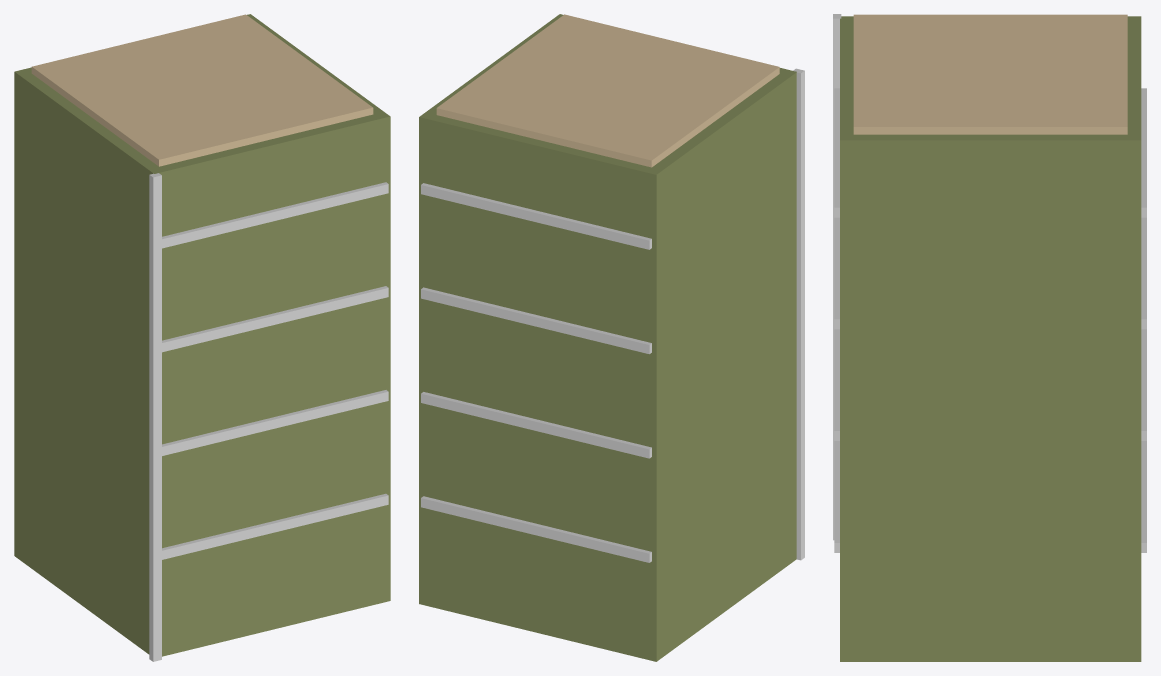
The model's file is SM_HescoCorto1_v2_Escalonado_e0_Sano_LOD0.fbx.
The picture shows the model from 3 angles, left to right: view 1: azimuth 30°, elevation 25°; view 2: azimuth 150°, elevation 25°; view 3: azimuth 270°, elevation 25°; orthographic projection. The views are drawn at different scales.
Visible parts, largest first — view 1: SM_hesco_piezas_v48_LOD0; view 2: SM_hesco_piezas_v48_LOD0; view 3: SM_hesco_piezas_v48_LOD0.
Part boxes in pixels (box(x1,y1,x2,y2)): SM_hesco_piezas_v48_LOD0: box(14, 14, 390, 661); SM_hesco_piezas_v48_LOD0: box(419, 14, 804, 661); SM_hesco_piezas_v48_LOD0: box(833, 14, 1146, 661).
Bounding box in the file's own units: 1.09 × 2.13 × 1.14.
